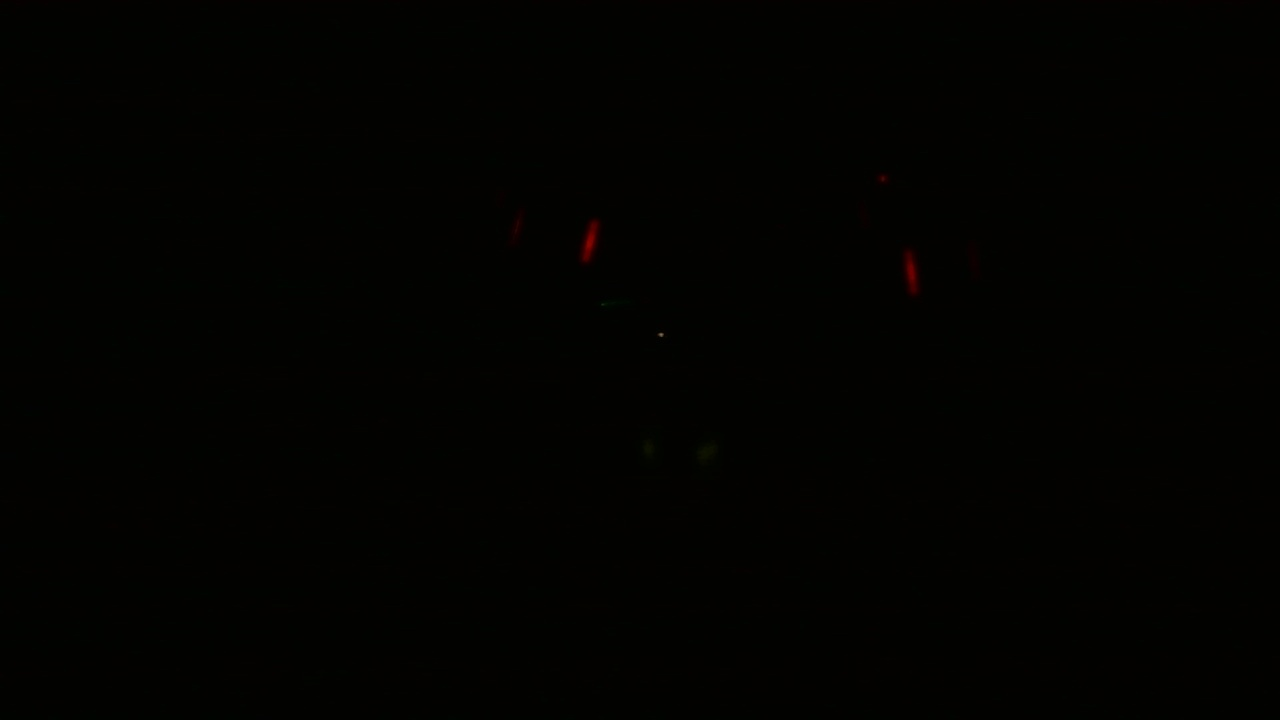pair1: (904, 252, 922, 296)
